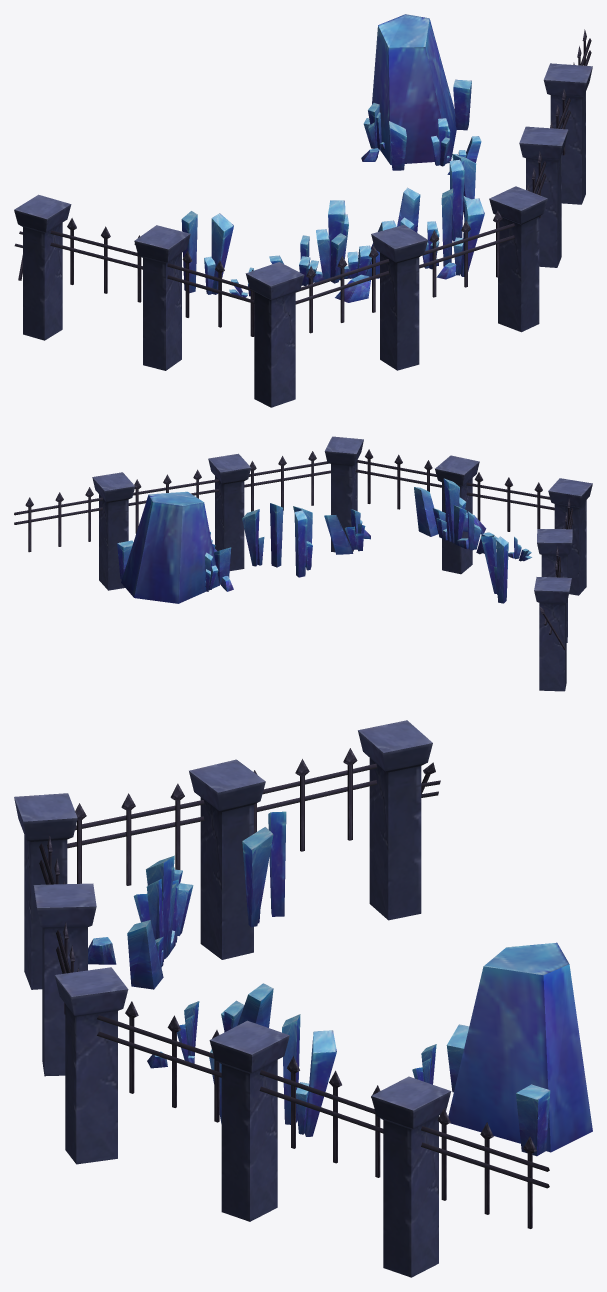
File: Area14_10.fbx
The picture shows the model from 3 angles, top to bottom: view 1: azimuth 30°, elevation 25°; view 2: azimuth 150°, elevation 25°; view 3: azimuth 270°, elevation 25°; orthographic projection. The views are drawn at different scales.
Parts seen in each view (by area): view 1: Area14_10; view 2: Area14_10; view 3: Area14_10.
Part boxes in pixels (x1,y1,x2,y2): Area14_10: [14, 14, 592, 407]; Area14_10: [14, 436, 592, 691]; Area14_10: [14, 720, 592, 1277].
Bounding box in the file's own units: 4243 × 1082 × 2460.
